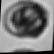correct: (0, 0, 54, 42)
